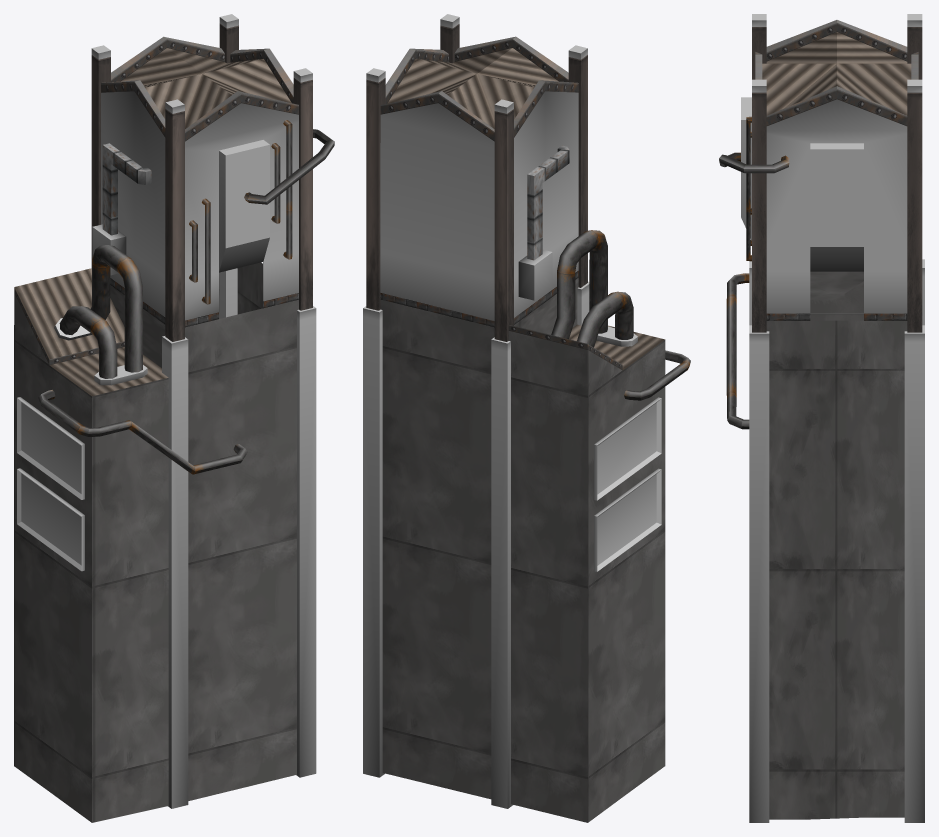
The model's file is factory_shop_building.fbx.
3 views of the same model, side by side, from view 1: azimuth 30°, elevation 25°; view 2: azimuth 150°, elevation 25°; view 3: azimuth 270°, elevation 25° (orthographic). The views are drawn at different scales.
Visible parts, largest first — view 1: FactoryBuilding, Pipes; view 2: FactoryBuilding, Pipes; view 3: FactoryBuilding, Pipes.
Part boxes in pixels (<box>): FactoryBuilding: <box>14,14,316,822</box>; Pipes: <box>38,120,334,474</box>; FactoryBuilding: <box>363,14,665,822</box>; Pipes: <box>551,230,690,400</box>; FactoryBuilding: <box>741,14,924,822</box>; Pipes: <box>719,116,789,429</box>.
Size of the model in its own units: 2645 by 6893 by 1747.
